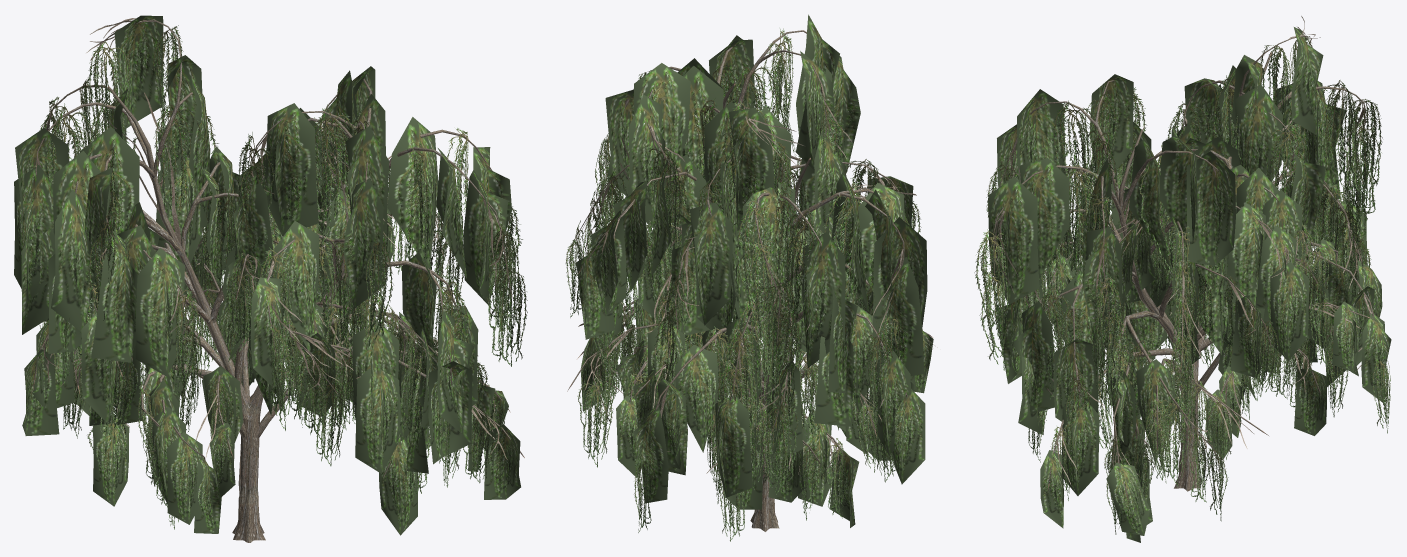
The model's file is WeepingWillow_Low.fbx.
3 views of the same model, side by side, from view 1: azimuth 30°, elevation 25°; view 2: azimuth 150°, elevation 25°; view 3: azimuth 270°, elevation 25° (orthographic). The views are drawn at different scales.
Parts seen in each view (by area): view 1: WeepingWillow_Low; view 2: WeepingWillow_Low; view 3: WeepingWillow_Low.
Part boxes in pixels (left/top/right/bottom): WeepingWillow_Low: left=14, top=15, right=527, bottom=542; WeepingWillow_Low: left=565, top=14, right=937, bottom=541; WeepingWillow_Low: left=974, top=16, right=1391, bottom=542.
Size of the model in its own units: 569 by 628 by 548.
